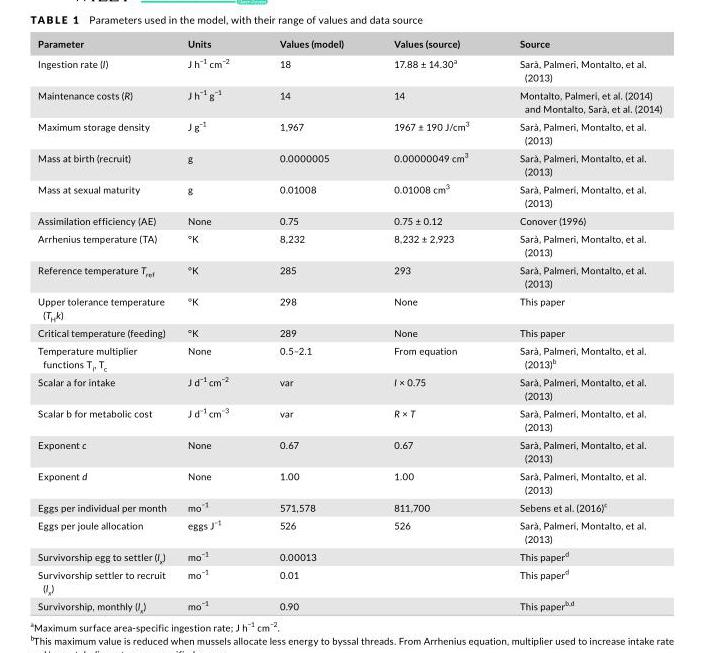table: (37, 37, 661, 613)
table column: (493, 37, 661, 613), (37, 37, 176, 613), (368, 37, 493, 613), (253, 37, 368, 613), (176, 37, 253, 613)
table column header: (37, 37, 661, 52)
table row: (37, 52, 661, 85), (37, 291, 661, 324), (37, 147, 661, 179), (37, 179, 661, 211), (37, 341, 661, 373), (37, 403, 661, 435), (37, 565, 661, 597), (37, 85, 661, 116), (37, 116, 661, 147), (37, 229, 661, 260), (37, 260, 661, 291), (37, 435, 661, 466), (37, 466, 661, 497), (37, 515, 661, 546), (37, 373, 661, 403), (37, 546, 661, 565), (37, 211, 661, 229), (37, 497, 661, 515), (37, 324, 661, 341), (37, 597, 661, 613), (37, 37, 661, 52)
